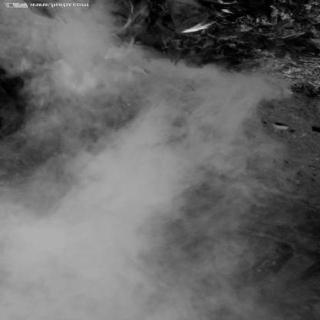Fire: (49, 5, 153, 104), (182, 9, 230, 37)
Smoke: (54, 123, 222, 289)
